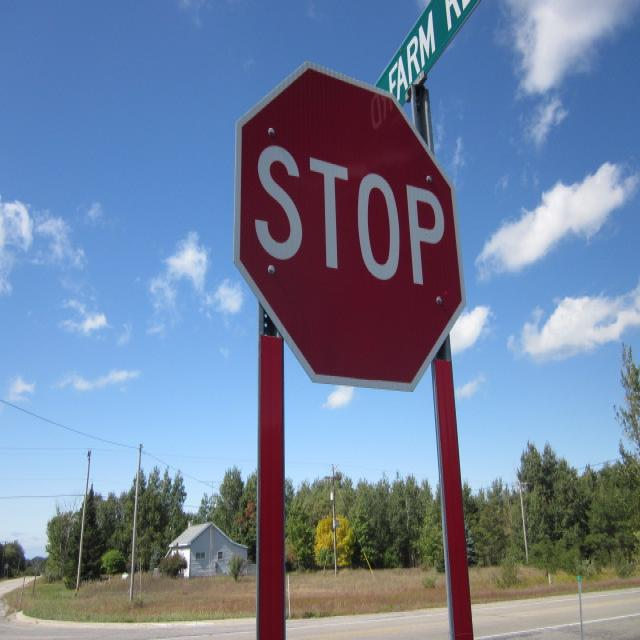stop: (228, 54, 470, 394)
